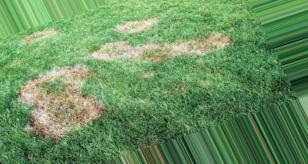patch: (22, 83, 87, 133), (100, 44, 159, 64), (172, 38, 227, 52), (113, 21, 155, 31), (23, 30, 57, 40)
